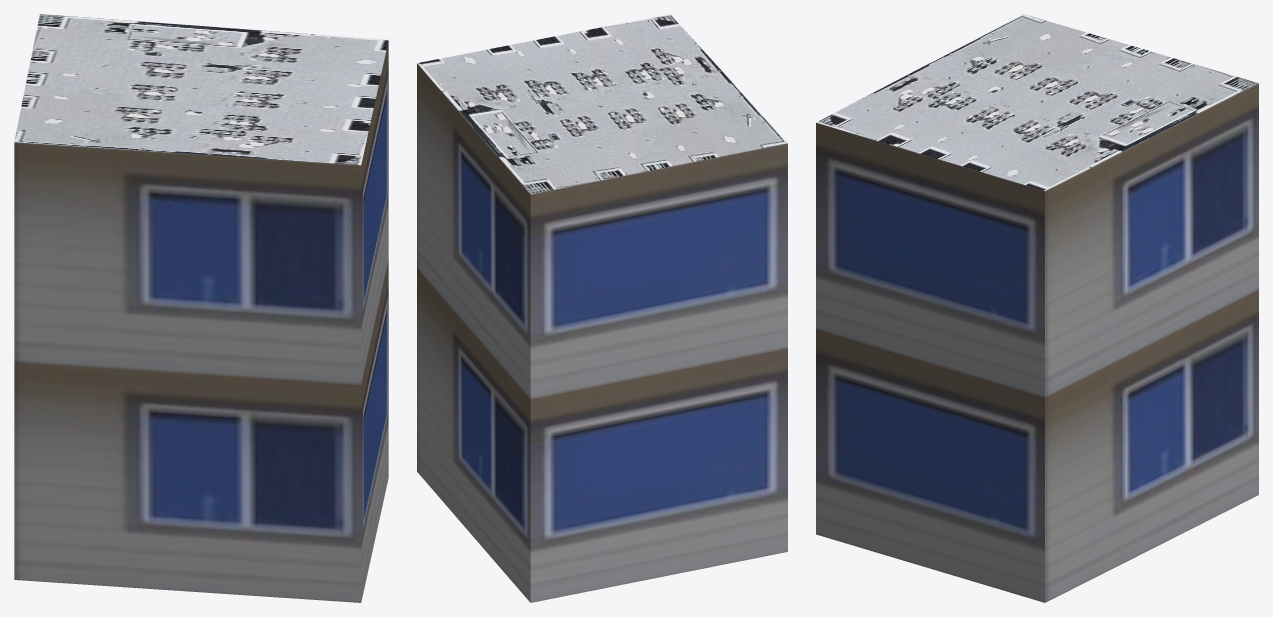
The model's file is ResTex__4402.fbx.
The picture shows the model from 3 angles, left to right: view 1: azimuth 30°, elevation 25°; view 2: azimuth 150°, elevation 25°; view 3: azimuth 270°, elevation 25°; orthographic projection. The views are drawn at different scales.
Visible parts, largest first — view 1: CityEngineMaterial_23_m, CityEngineMaterial_4_m; view 2: CityEngineMaterial_23_m, CityEngineMaterial_4_m; view 3: CityEngineMaterial_23_m, CityEngineMaterial_4_m.
Part boxes in pixels (left/top/right/bottom): CityEngineMaterial_23_m: left=14, top=41, right=388, bottom=602; CityEngineMaterial_4_m: left=14, top=14, right=388, bottom=165; CityEngineMaterial_23_m: left=417, top=63, right=787, bottom=602; CityEngineMaterial_4_m: left=417, top=14, right=787, bottom=194; CityEngineMaterial_23_m: left=816, top=83, right=1258, bottom=602; CityEngineMaterial_4_m: left=816, top=14, right=1258, bottom=190.
Bounding box in the file's own units: 5.53 × 6 × 5.85.
Materials: 2 (2 with a texture image).
